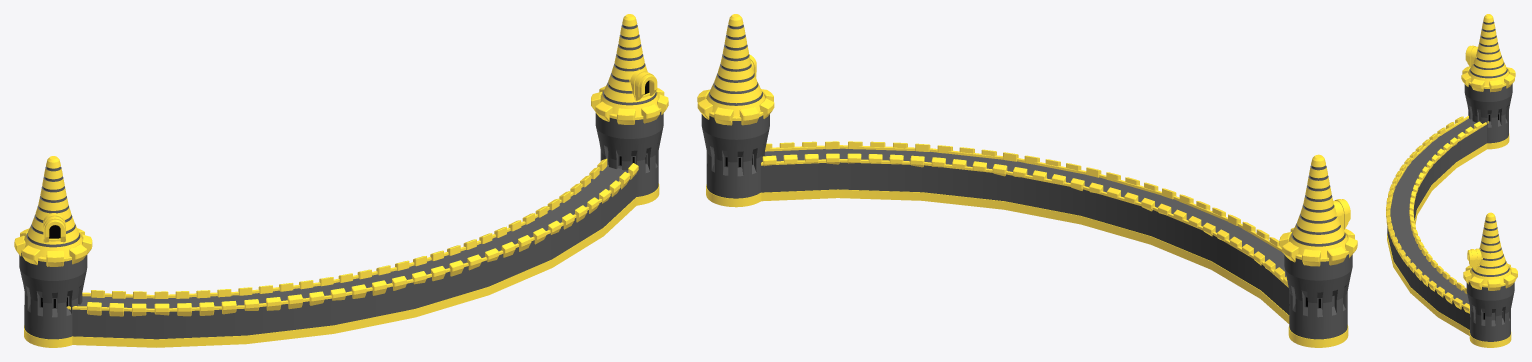
File: mage_wall_curved.fbx
3 views of the same model, side by side, from view 1: azimuth 30°, elevation 25°; view 2: azimuth 150°, elevation 25°; view 3: azimuth 270°, elevation 25° (orthographic). The views are drawn at different scales.
Parts seen in each view (by area): view 1: mage_wall_curved, minitowers, merlons; view 2: mage_wall_curved, minitowers, merlons; view 3: minitowers, mage_wall_curved, merlons.
Part boxes in pixels (x1=…): mage_wall_curved: x1=66, y1=164, x2=636, y2=347; minitowers: x1=14, y1=14, x2=668, y2=347; merlons: x1=87, y1=158, x2=638, y2=316; mage_wall_curved: x1=761, y1=145, x2=1289, y2=323; minitowers: x1=697, y1=14, x2=1357, y2=347; merlons: x1=762, y1=141, x2=1288, y2=287; minitowers: x1=1461, y1=14, x2=1517, y2=347; mage_wall_curved: x1=1387, y1=116, x2=1488, y2=335; merlons: x1=1386, y1=116, x2=1482, y2=313.
Bounding box in the file's own units: 41.52 × 10.94 × 10.44.
